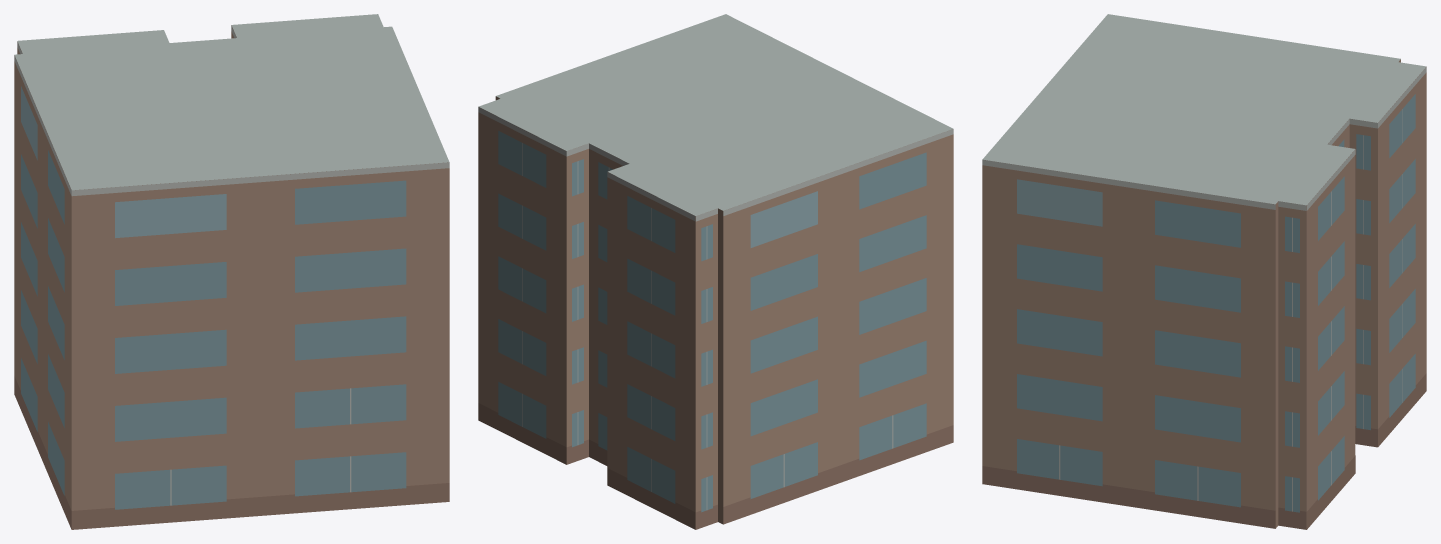
File: survey-upis-32971134.glb
3 renders of one model, left to right at view 1: azimuth 30°, elevation 25°; view 2: azimuth 150°, elevation 25°; view 3: azimuth 270°, elevation 25°, orthographic. The views are drawn at different scales.
Parts seen in each view (by area): view 1: survey-upis-32971134.tmp; view 2: survey-upis-32971134.tmp; view 3: survey-upis-32971134.tmp.
Part boxes in pixels (x1,y1,x2,y2): survey-upis-32971134.tmp: (14, 14, 449, 529); survey-upis-32971134.tmp: (478, 14, 953, 529); survey-upis-32971134.tmp: (982, 14, 1426, 529).
Bounding box in the file's own units: 17.85 × 14.1 × 17.51.
